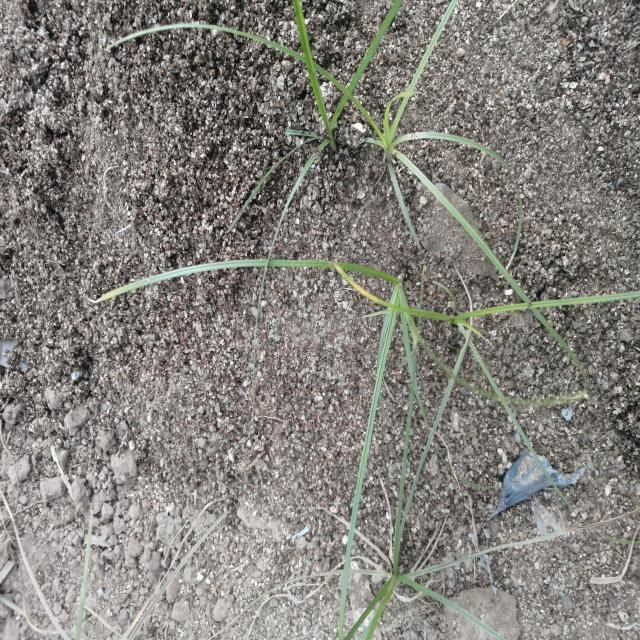sedge: (202, 205, 529, 527)
